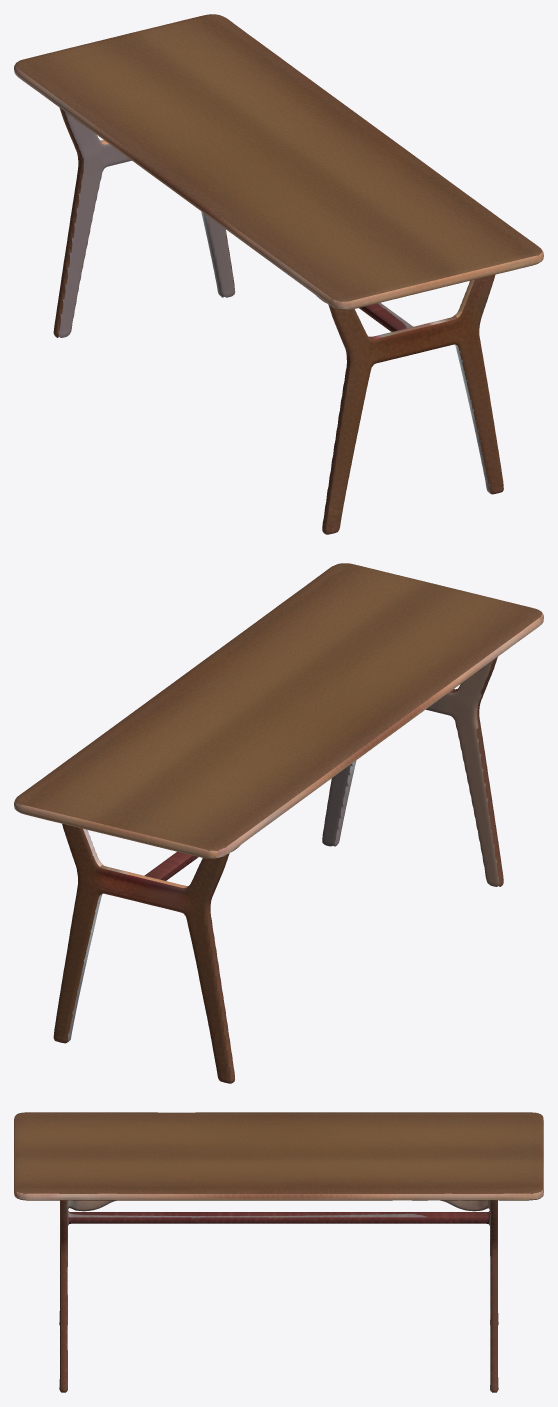
The model's file is table__table#2.glb.
3 renders of one model, top to bottom at view 1: azimuth 30°, elevation 25°; view 2: azimuth 150°, elevation 25°; view 3: azimuth 270°, elevation 25°, orthographic. The views are drawn at different scales.
Parts seen in each view (by area): view 1: tmpf3jh9rp6.ply; view 2: tmpf3jh9rp6.ply; view 3: tmpf3jh9rp6.ply.
Boxes of the visible parts, x1,y1,x2,y2 form: tmpf3jh9rp6.ply: (14,14,543,534); tmpf3jh9rp6.ply: (14,563,543,1083); tmpf3jh9rp6.ply: (14,1112,543,1392).
Size of the model in its own units: 0.7363 by 0.8544 by 1.99.
Materials: 1 (1 with a texture image).
